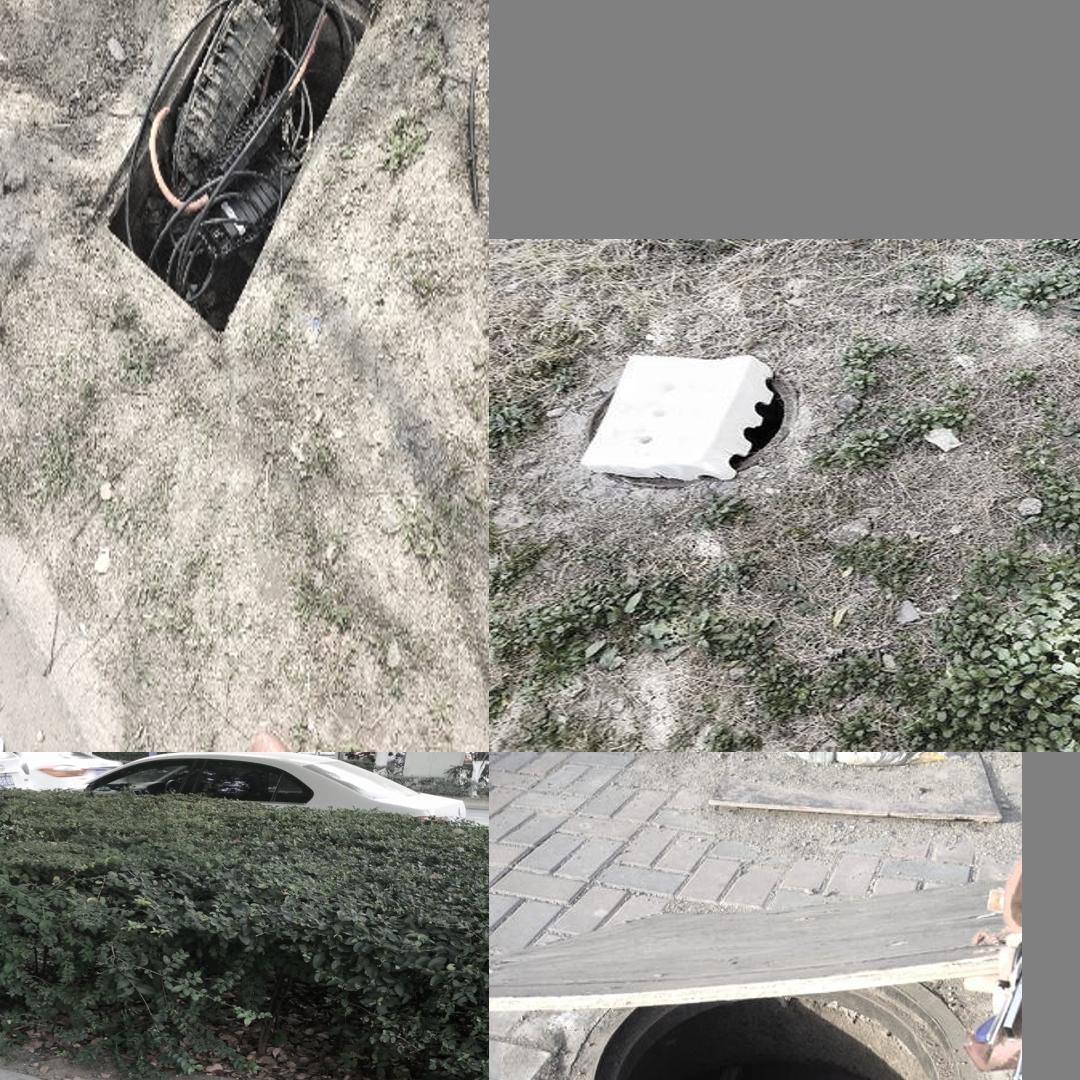lose: (91, 0, 381, 341), (543, 943, 986, 1080), (1066, 398, 1080, 607)
